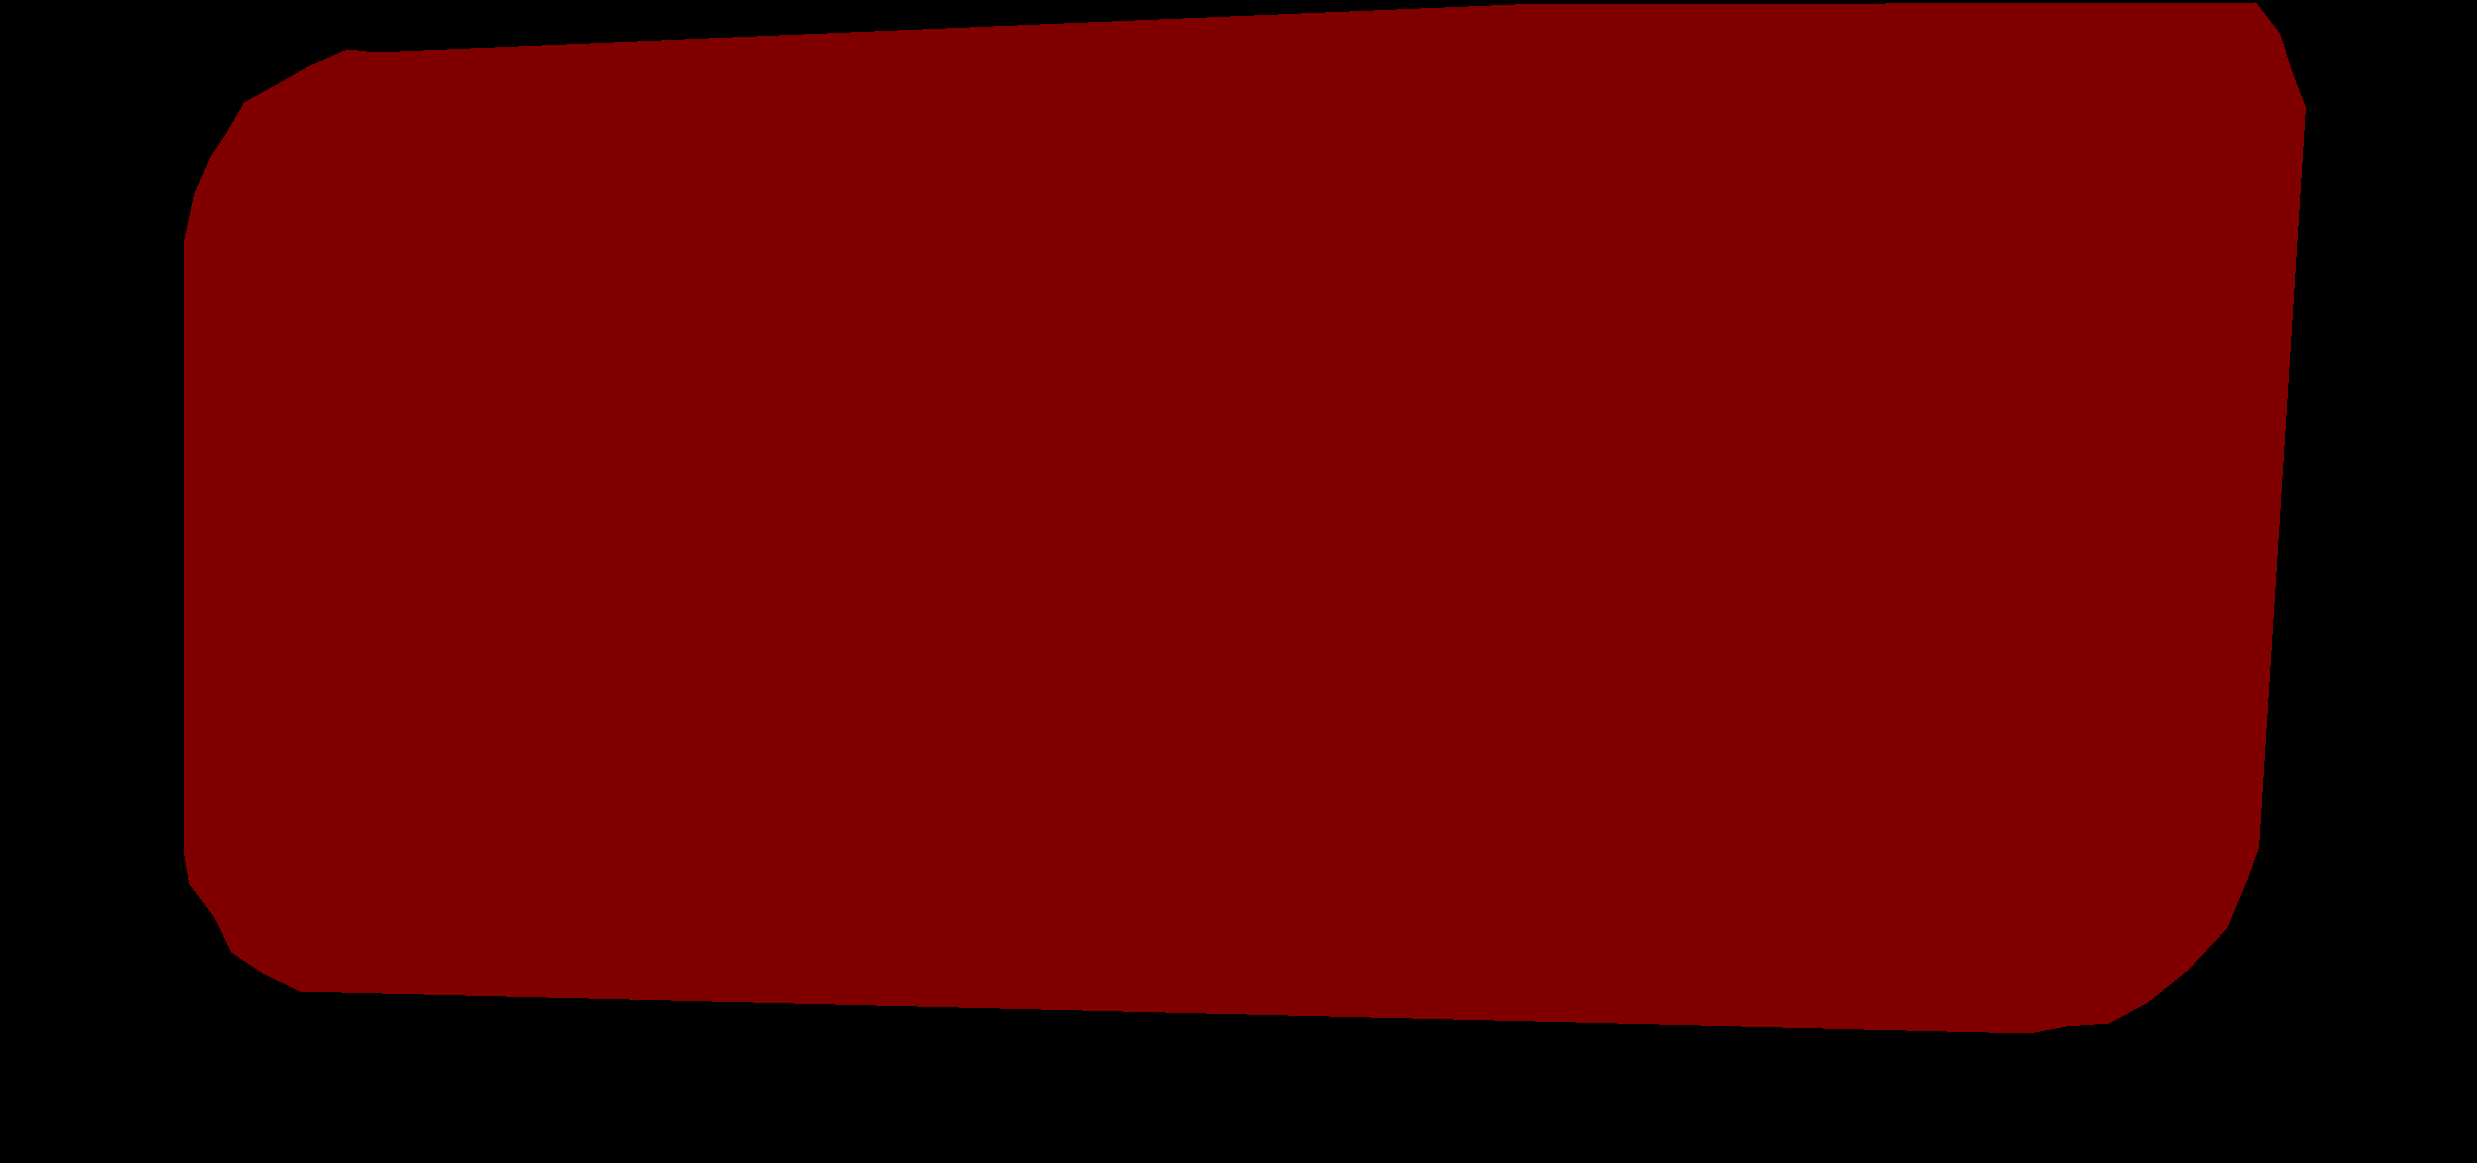sign: (183, 2, 2305, 1033)
